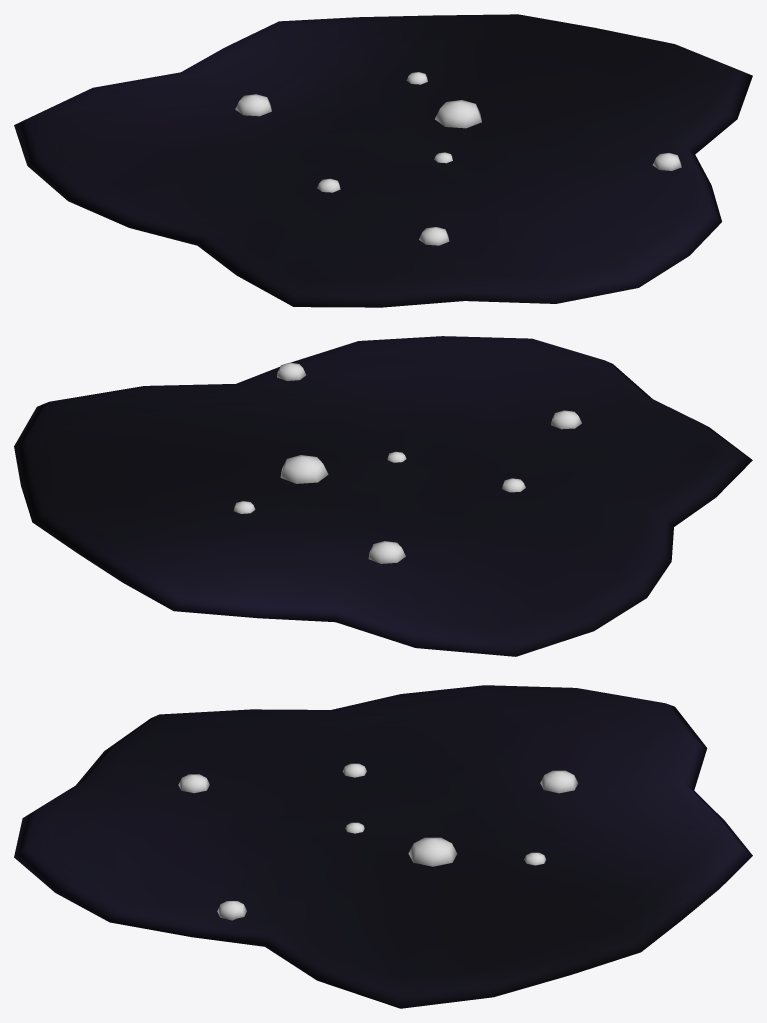
Rendered from fx_puddle.glb.
3 renders of one model, top to bottom at view 1: azimuth 30°, elevation 25°; view 2: azimuth 150°, elevation 25°; view 3: azimuth 270°, elevation 25°, orthographic. The views are drawn at different scales.
Parts seen in each view (by area): view 1: Goo, Glow; view 2: Goo, Glow; view 3: Goo, Glow.
Boxes of the visible parts, x1=… form: Goo: x1=14, y1=14, x2=752, y2=307; Glow: x1=235, y1=72, x2=681, y2=245; Goo: x1=14, y1=336, x2=752, y2=656; Glow: x1=233, y1=362, x2=581, y2=563; Goo: x1=14, y1=685, x2=752, y2=1008; Glow: x1=178, y1=763, x2=578, y2=920.
Bounding box in the file's own units: 1.28 × 0.0605 × 1.25.
